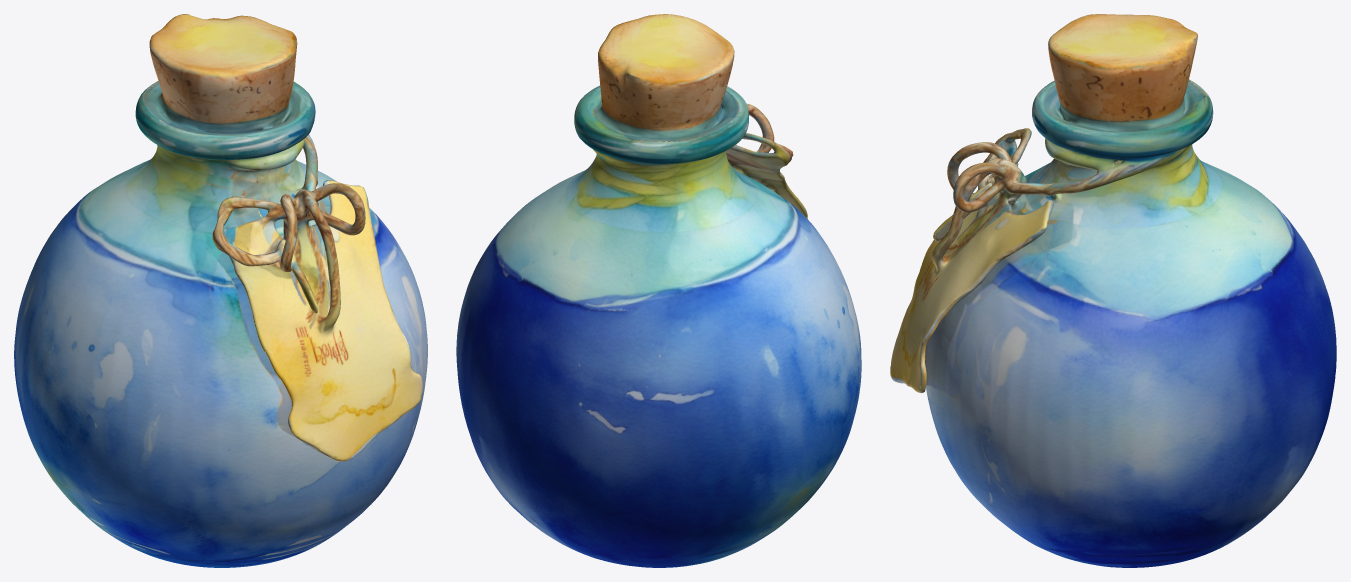
The model's file is Mana_small_Potion.glb.
3 renders of one model, left to right at view 1: azimuth 30°, elevation 25°; view 2: azimuth 150°, elevation 25°; view 3: azimuth 270°, elevation 25°, orthographic. The views are drawn at different scales.
Bounding box in the file's own units: 1.5 × 2 × 1.61.
1 material, 1 textured.
